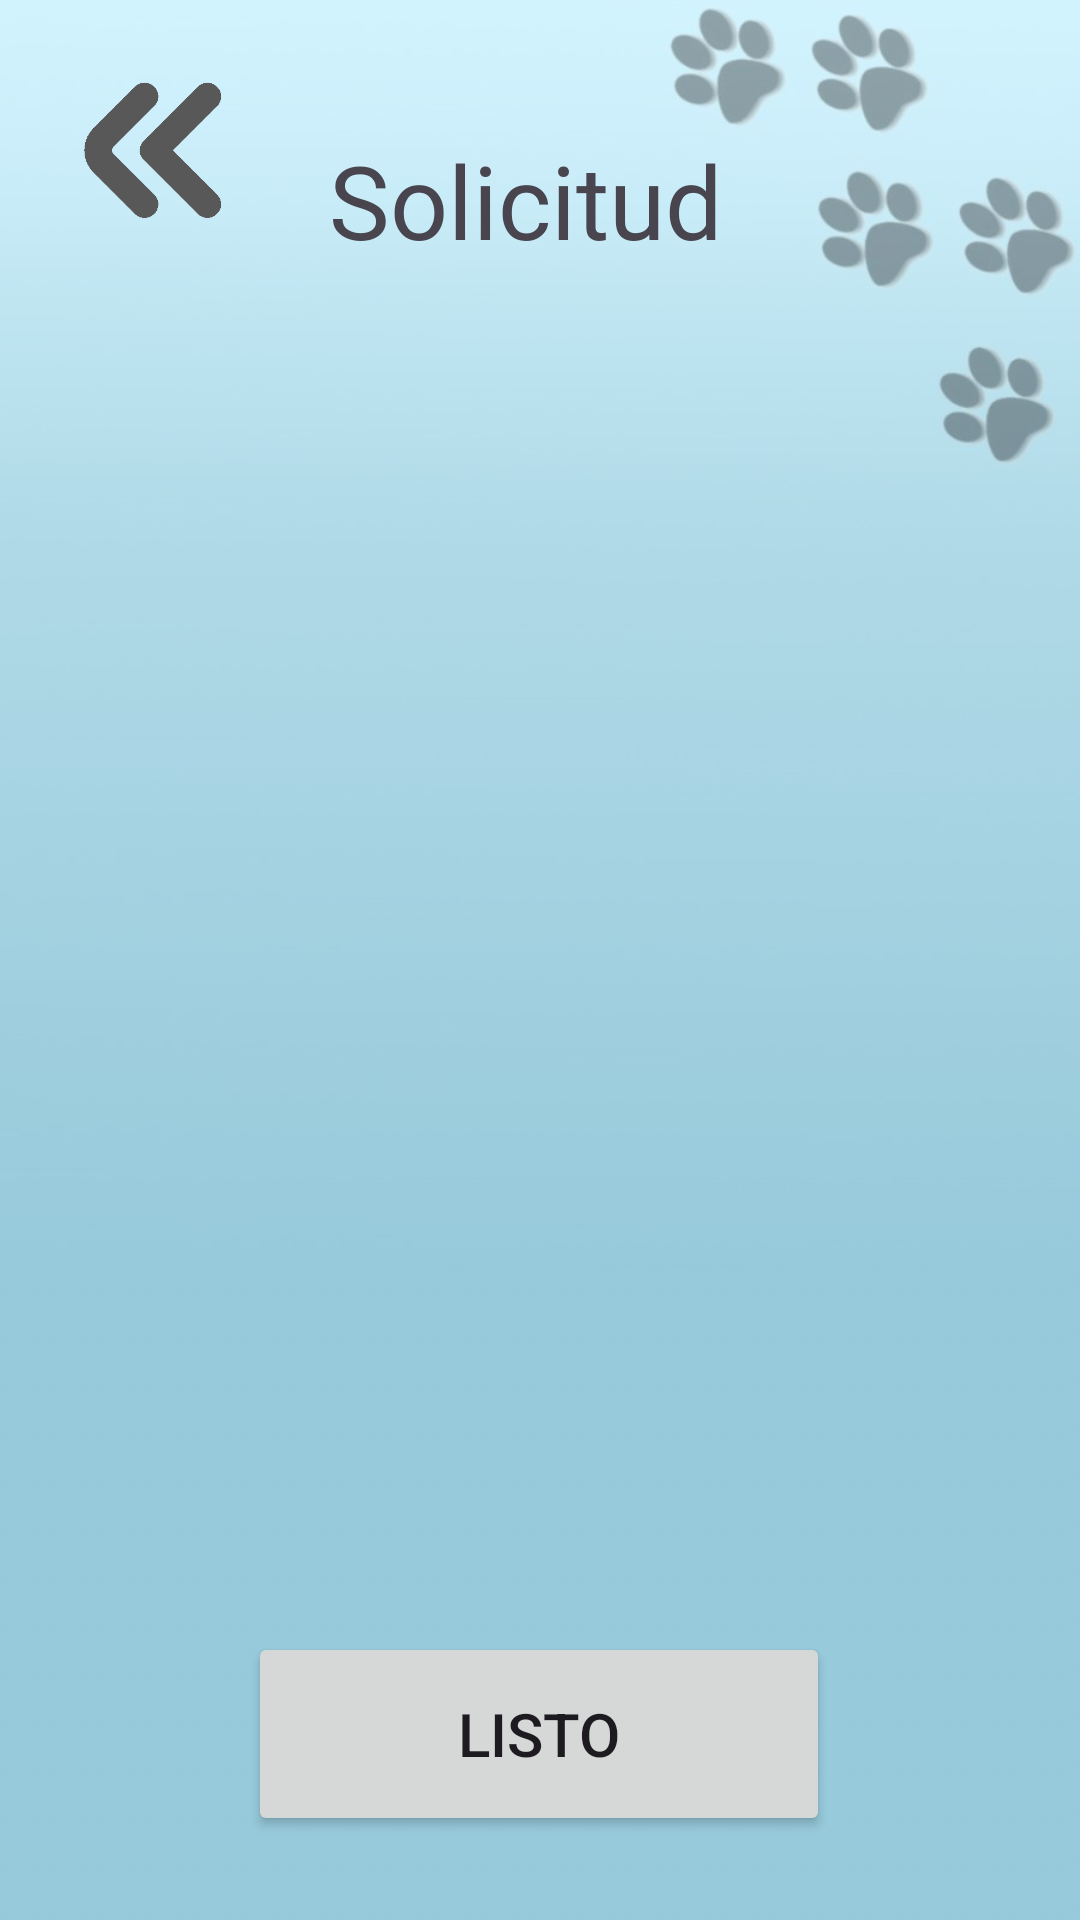

Named icons in this screenshot (1080*1920) and their centers, [x,y]:
regresar: [152,150]
